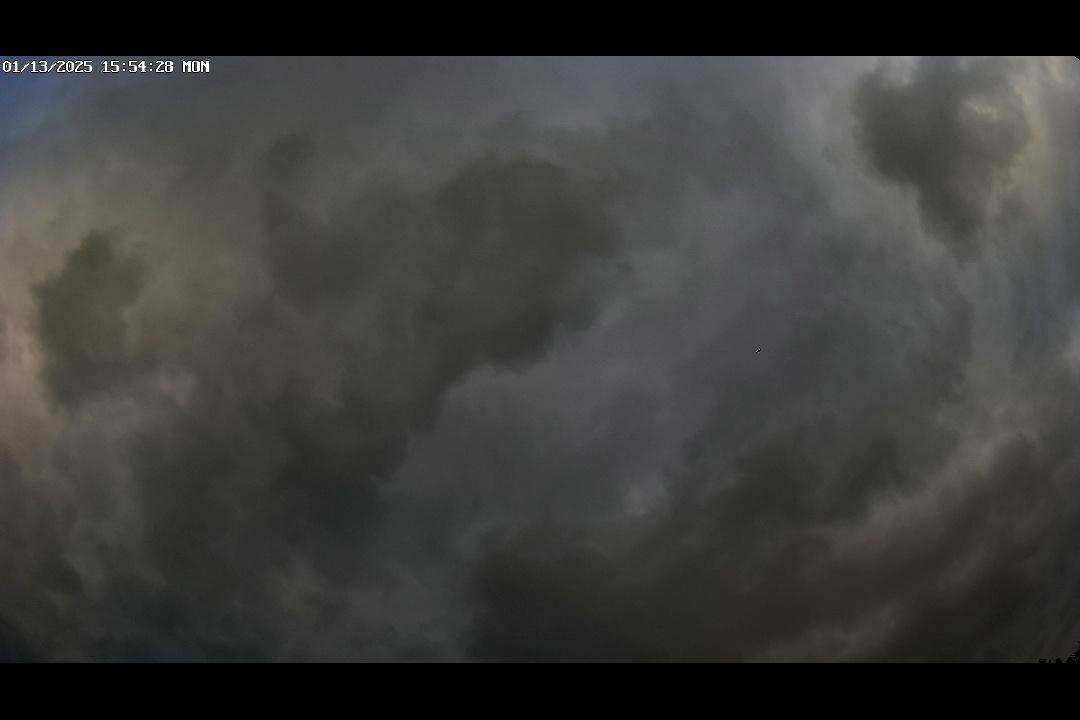WildLife: (746, 345, 770, 357)
